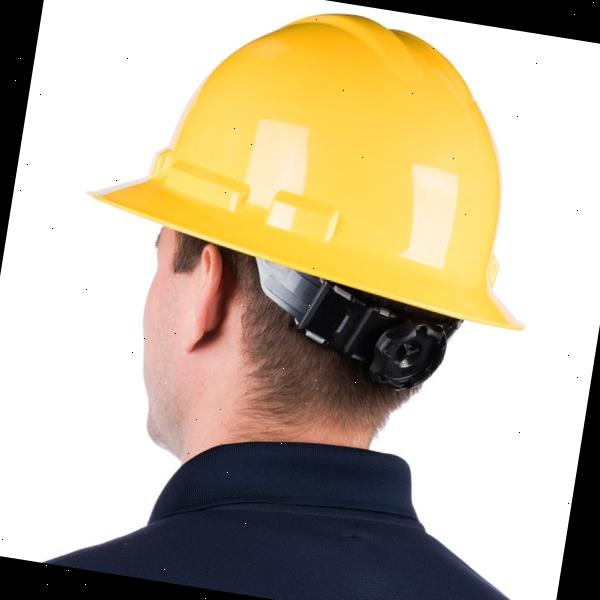helmet: (71, 0, 568, 340)
